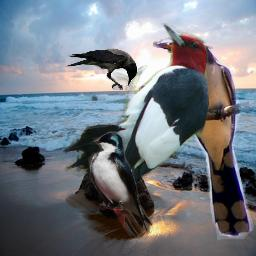Crow: (65, 48, 137, 90)
Cuckoo: (153, 37, 254, 240)
Swallow: (88, 131, 153, 236)
Woodpecker: (61, 23, 209, 192)
